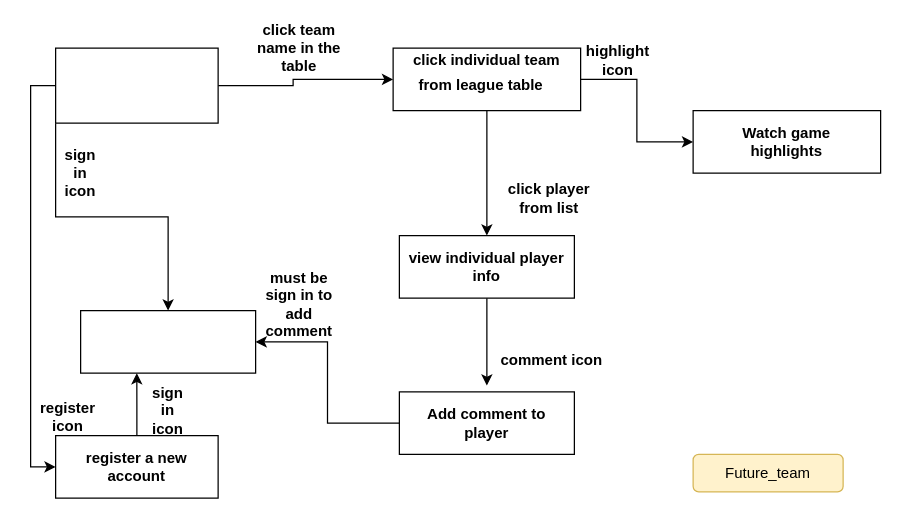
The diagram is 903 pixels wide and 520 high, and some of its shapes have lost their labels. The shapes that lost their labels are listed below. From the top down, each one's centre as x and y in pixels, then its label:
(136,85): Deskstop/homepage
(167,341): sign in to account
